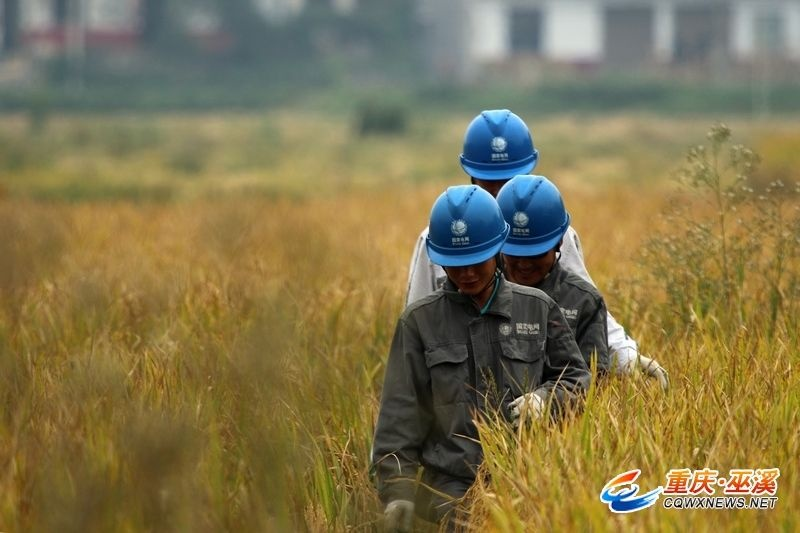blue: (426, 183, 500, 295), (496, 175, 566, 284), (459, 106, 536, 192)
